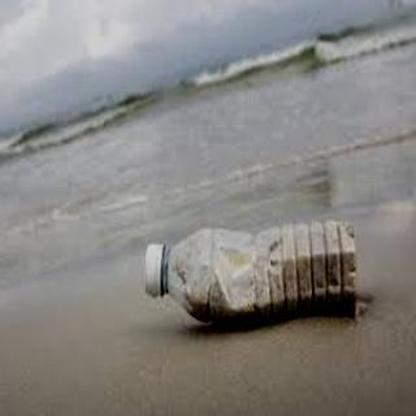plastic bottle: (141, 220, 360, 319)
